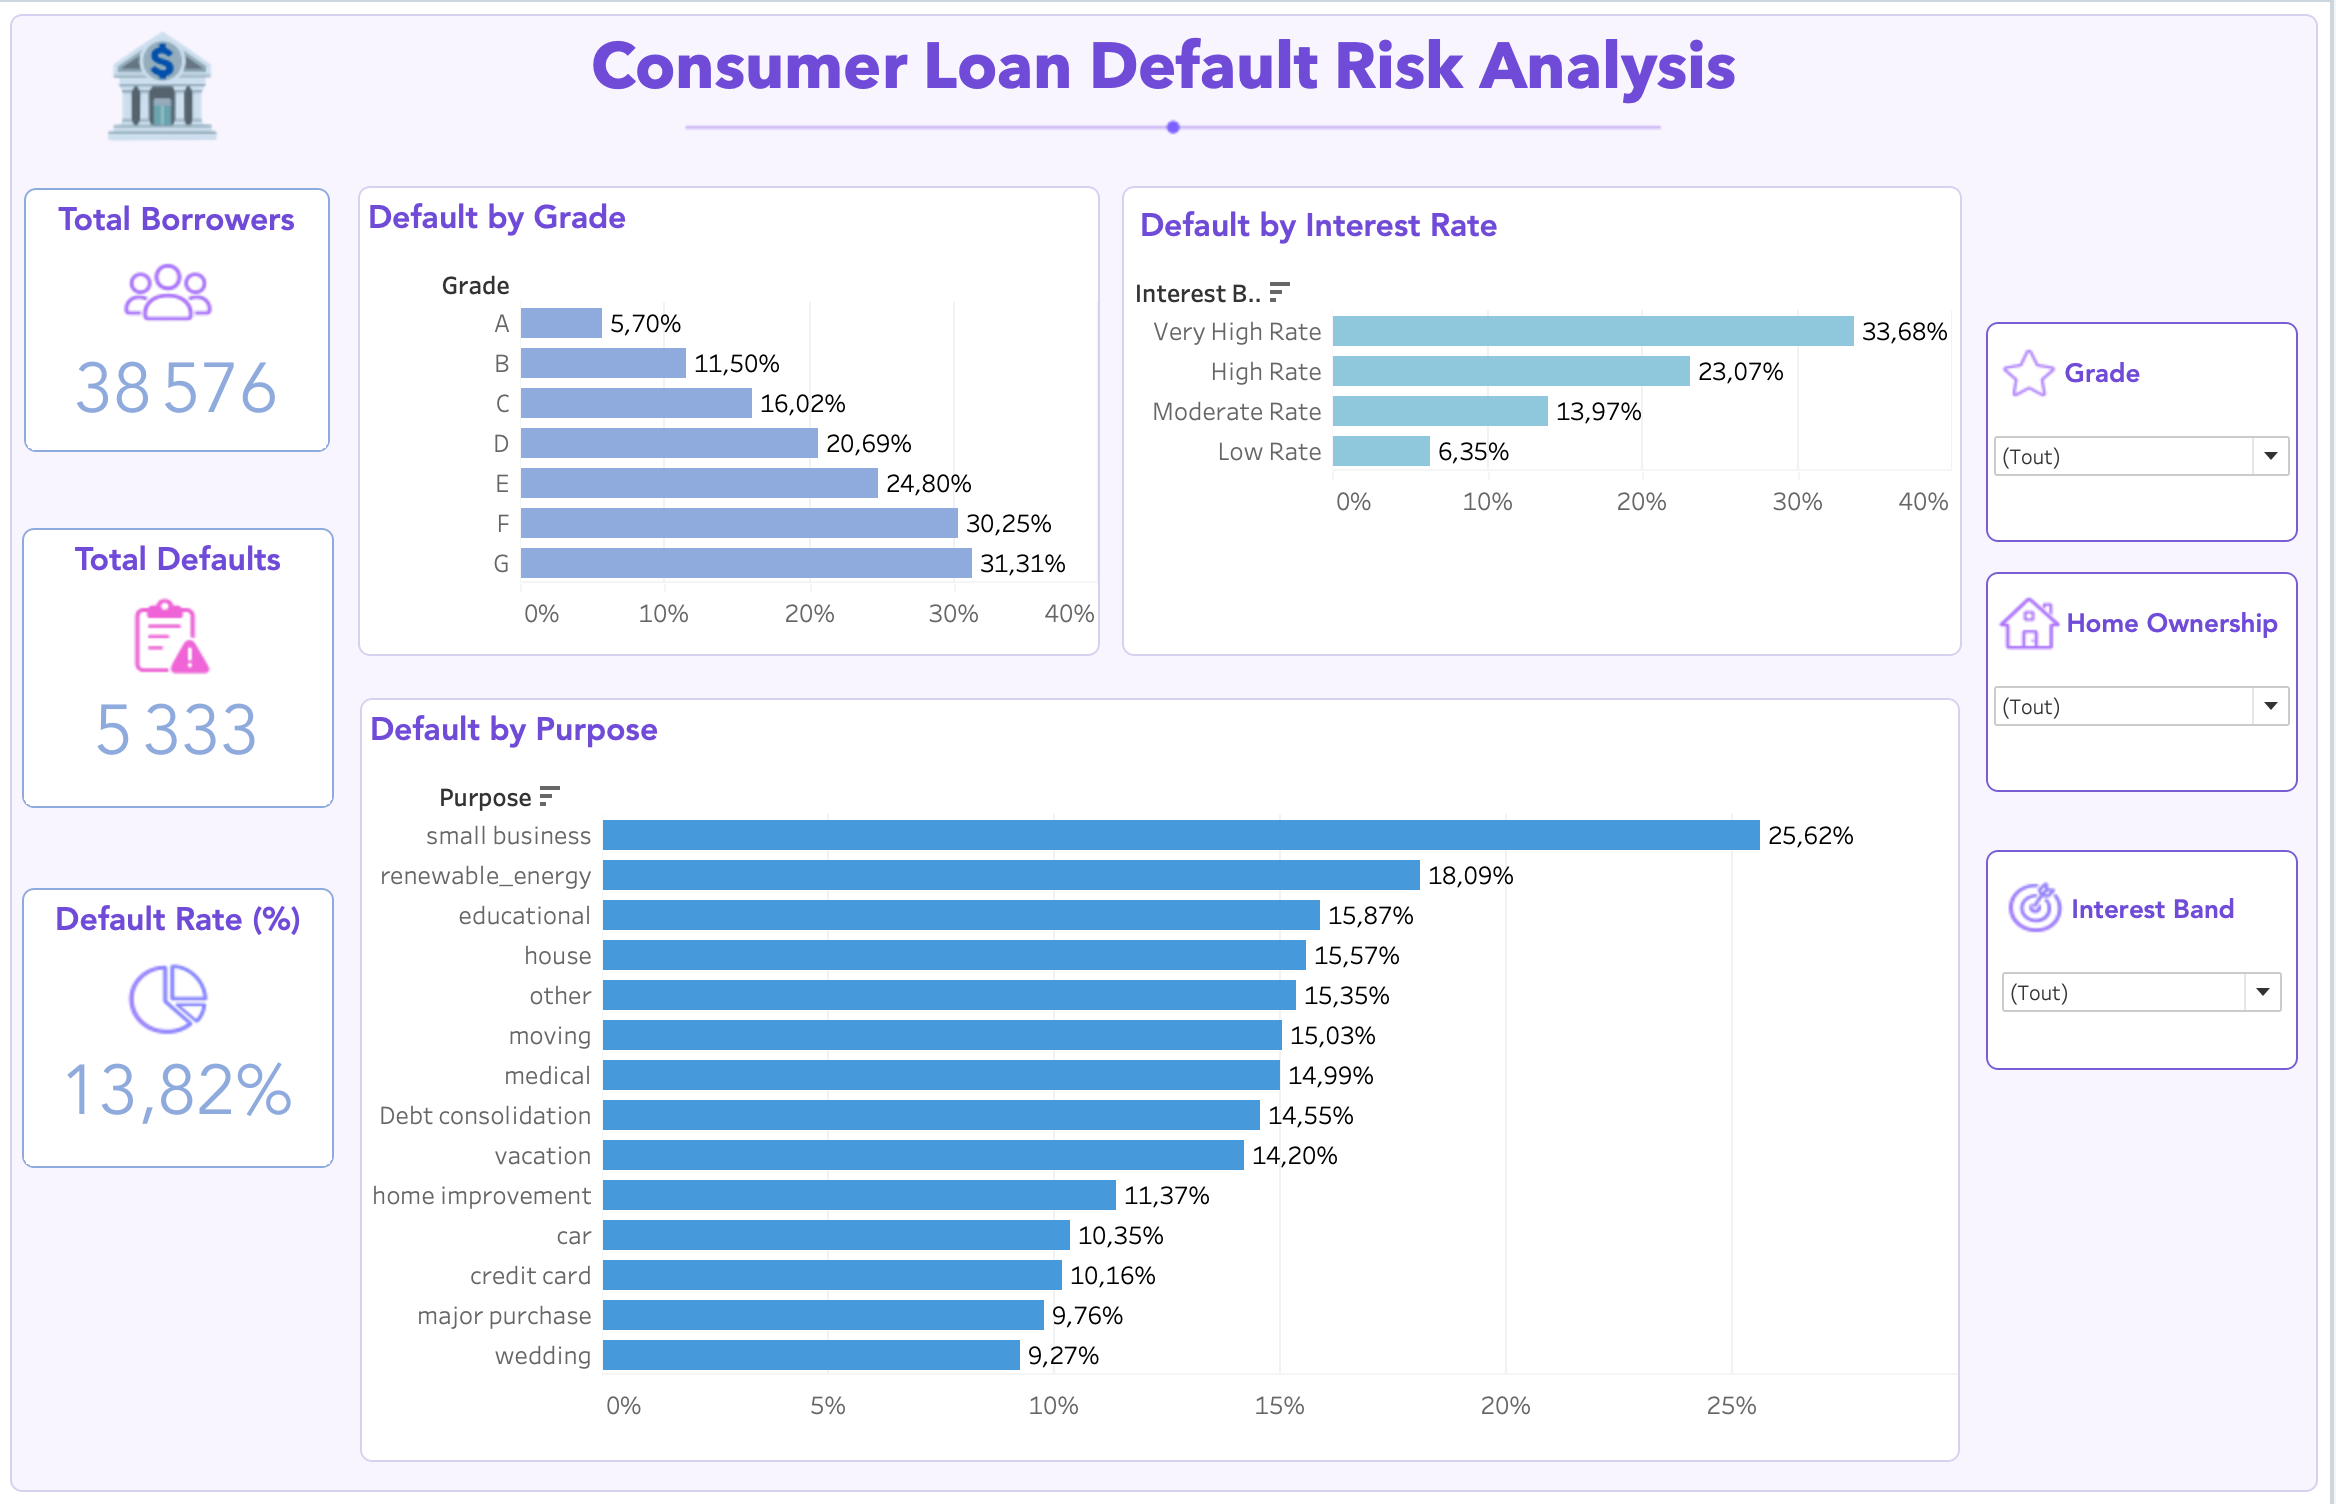

Layout of this report page (visuals, bound fields, positions):
{"tool":"tableau","page":{"name":"Consumer Loan Default Risk Analysis","canvas":[1000,1000],"units":"permille","ordinal":0},"visuals":[{"type":"title","box":[7.7,11.9,984.6,68.9]},{"type":"image","param":"/Users/nguyenxuanthu/Downloads/bank-svgrepo-com.svg","box":[47,19.9,49.6,82.1]},{"type":"image","param":"/Users/nguyenxuanthu/Downloads/pastel_divider_hd.png","box":[254.2,70.2,500,31.8]},{"type":"worksheet","title":"Total Borrowers","mark":"Automatic","box":[9.4,120.5,137.6,185.4]},{"type":"worksheet","title":"Default by Grade","mark":"Automatic","rows":["grade"],"cols":["Calculation_0775654701793280"],"box":[155.5,124.5,316.9,311.3]},{"type":"worksheet","title":"Default by Interest Rate","mark":"Automatic","rows":["interest_band"],"cols":["Calculation_0775654701793280"],"box":[483.3,125.8,357,231.8]},{"type":"image","param":"/Users/nguyenxuanthu/Downloads/ChatGPT Image 30 juin 2026, 16_45_07.png","box":[16.2,143.1,117.1,120.5]},{"type":"image","param":"/Users/nguyenxuanthu/Downloads/ChatGPT Image 30 juin 2026, 16_54_31.png","box":[829.1,205.3,81.2,91.4]},{"type":"filter","title":"Default by Grade","param":"[federated.1b7c9ko0uqht7b17l0rch1issvzn].[none:grade:nk]","box":[851.3,214.6,133.3,145.7]},{"type":"worksheet","title":"Number of Defaults","mark":"Automatic","box":[12,351,133.3,185.4]},{"type":"image","param":"/Users/nguyenxuanthu/Downloads/ChatGPT Image 30 juin 2026, 16_48_31.png","box":[20.5,357.6,105.1,143.1]},{"type":"image","param":"/Users/nguyenxuanthu/Downloads/ChatGPT Image 30 juin 2026, 16_56_57.png","box":[820.5,369.5,95.7,112.6]},{"type":"filter","title":"Default by Grade","param":"[federated.1b7c9ko0uqht7b17l0rch1issvzn].[none:home_ownership:nk]","box":[851.3,380.1,133.3,145.7]},{"type":"worksheet","title":"Default by Purpose","mark":"Automatic","rows":["purpose"],"cols":["Calculation_0775654701793280"],"box":[156.4,463.6,683.8,506]},{"type":"filter","title":"Default by Grade","param":"[federated.1b7c9ko0uqht7b17l0rch1issvzn].[none:interest_band:nk]","box":[852.1,565.6,131.6,143.1]},{"type":"worksheet","title":"Default Rate (%)","mark":"Automatic","box":[12,589.4,133.3,185.4]},{"type":"image","param":"/Users/nguyenxuanthu/Downloads/ChatGPT Image 30 juin 2026, 16_51_59.png","box":[12,598.7,123.1,139.1]}]}

Visuals, with their boxes on the dashboard's canvas, which has no fixed pixel size, in thousandths of its width and height (x1, y1, x2, y2). These are canvas units, not pixel positions in the 2336x1504 screenshot, which may show the page scaled, cropped or inside an application window:
title: 8 12 992 81
image: 47 20 97 102
image: 254 70 754 102
"Total Borrowers" worksheet: 9 120 147 306
"Default by Grade" worksheet: 156 124 472 436
"Default by Interest Rate" worksheet: 483 126 840 358
image: 16 143 133 264
image: 829 205 910 297
"Default by Grade" filter: 851 215 985 360
"Number of Defaults" worksheet: 12 351 145 536
image: 20 358 126 501
image: 820 370 916 482
"Default by Grade" filter: 851 380 985 526
"Default by Purpose" worksheet: 156 464 840 970
"Default by Grade" filter: 852 566 984 709
"Default Rate (%)" worksheet: 12 589 145 775
image: 12 599 135 738
